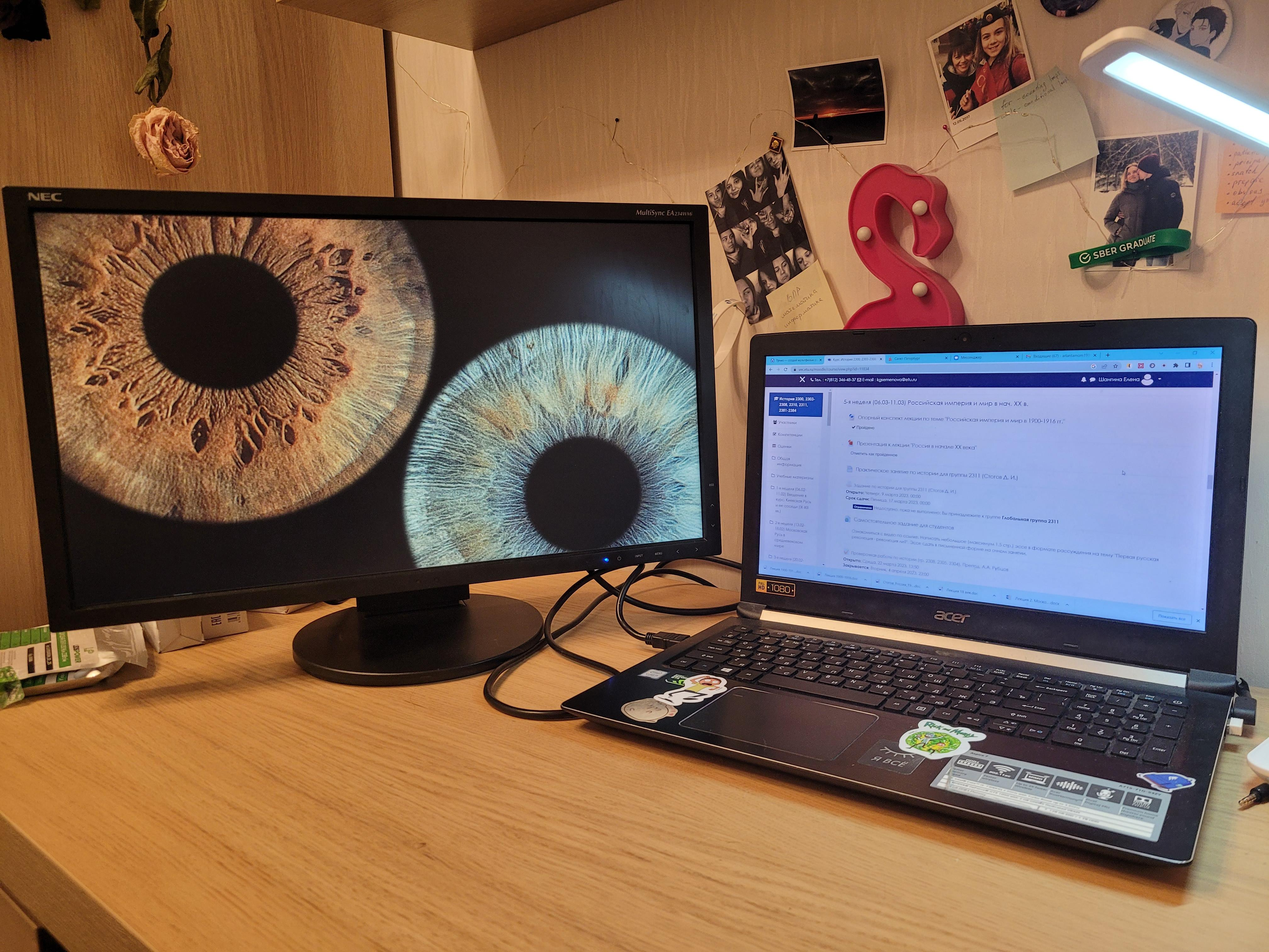monitor: (0, 183, 725, 638), (740, 310, 1261, 683)
